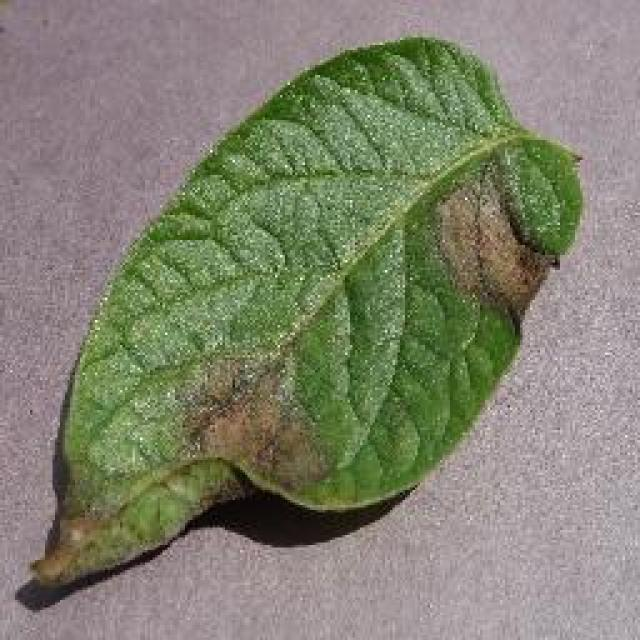Potato___Late_blight: (17, 34, 589, 596)
